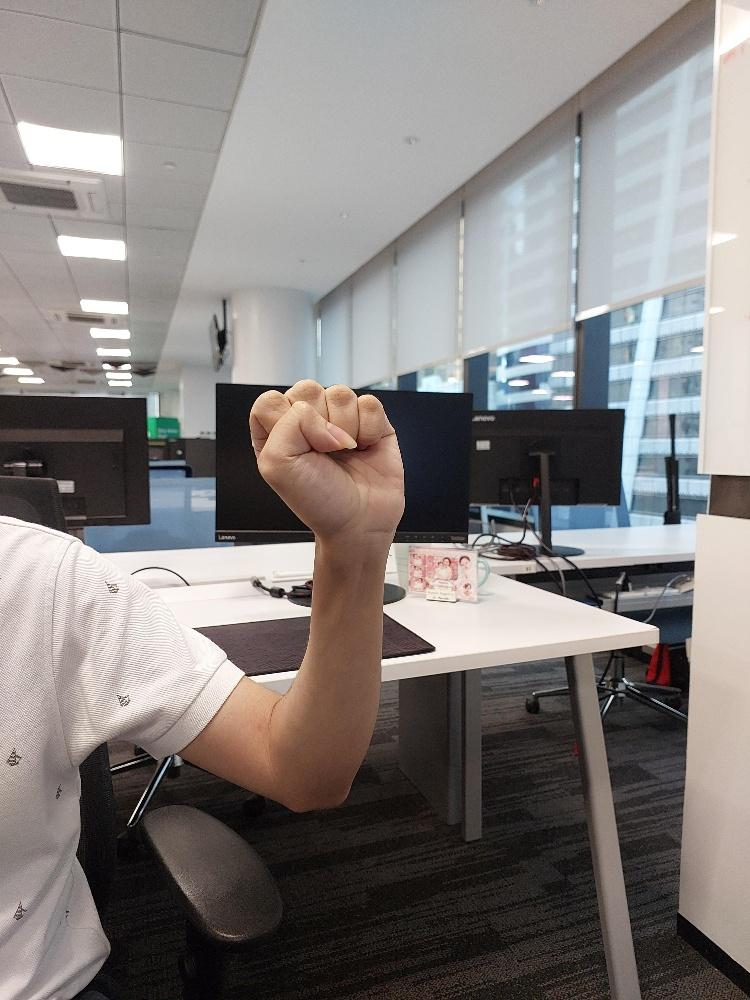s: (246, 376, 409, 539)
